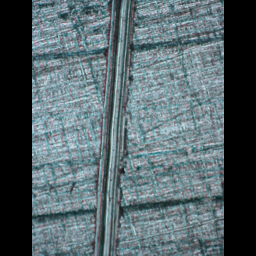d: (91, 0, 142, 254)
